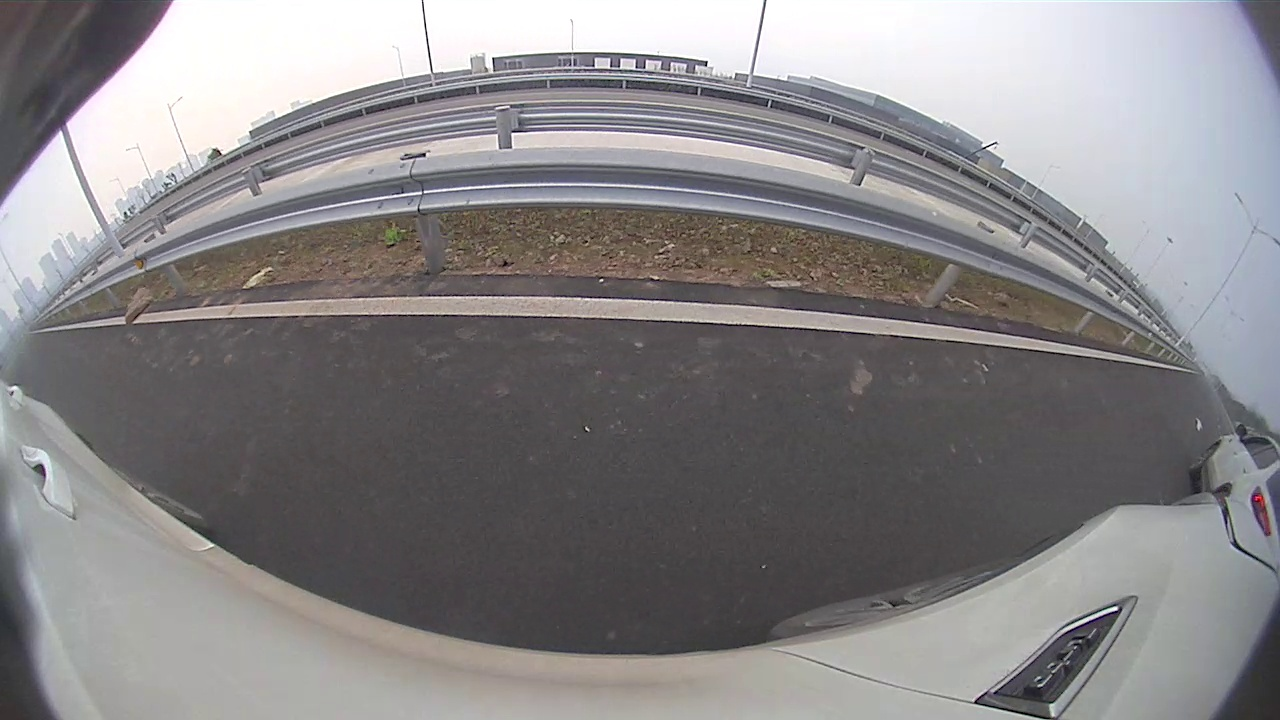car: (1188, 424, 1278, 571)
